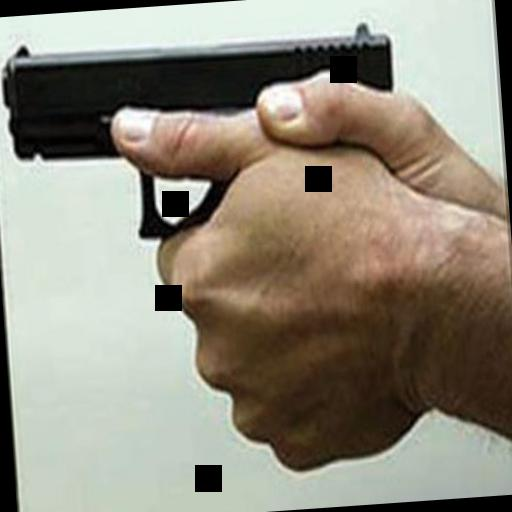Handgun: (0, 10, 402, 261)
